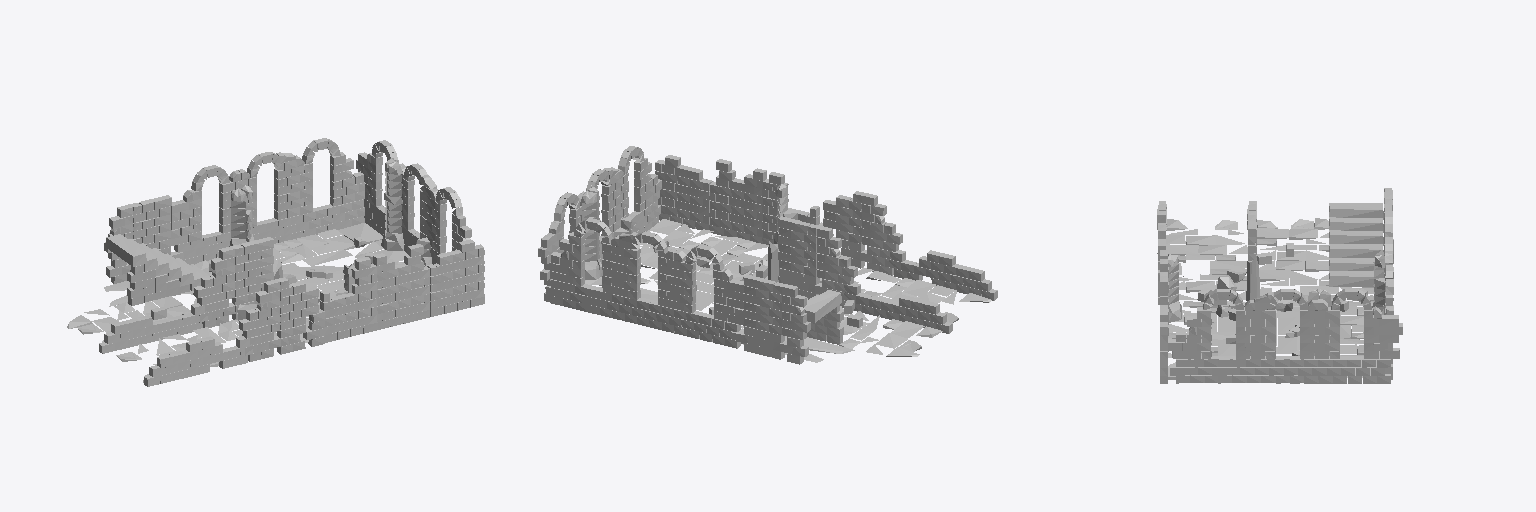
Rendered from pierre ele 6fix.obj.
3 views of the same model, side by side, from view 1: azimuth 30°, elevation 25°; view 2: azimuth 150°, elevation 25°; view 3: azimuth 270°, elevation 25° (orthographic).
Parts seen in each view (by area): view 1: brique_default29; view 2: brique_default29; view 3: brique_default29.
Boxes of the visible parts, box(x1,y1,x2,y2) form: brique_default29: box(67, 138, 484, 386); brique_default29: box(538, 146, 997, 364); brique_default29: box(1157, 188, 1402, 383).
Bounding box in the file's own units: 15.81 × 4.13 × 9.95.